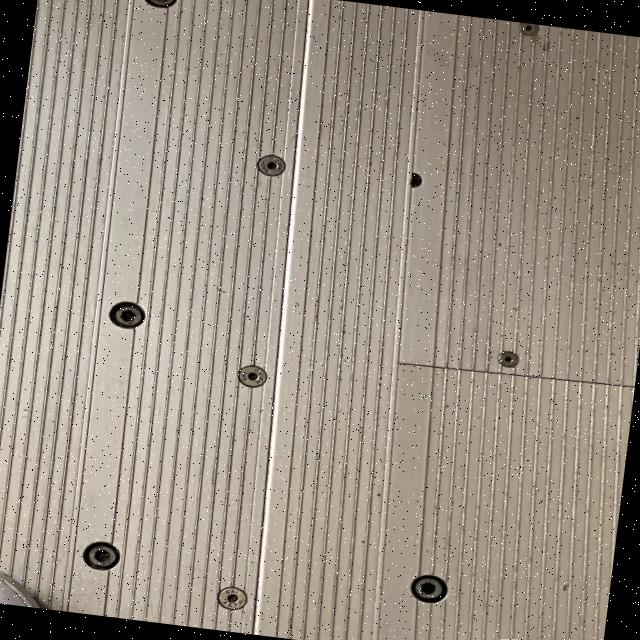Hex Socket Allen: (87, 544, 117, 567), (114, 304, 143, 326), (413, 577, 442, 599), (496, 350, 520, 368), (518, 22, 540, 36), (147, 0, 175, 6)
